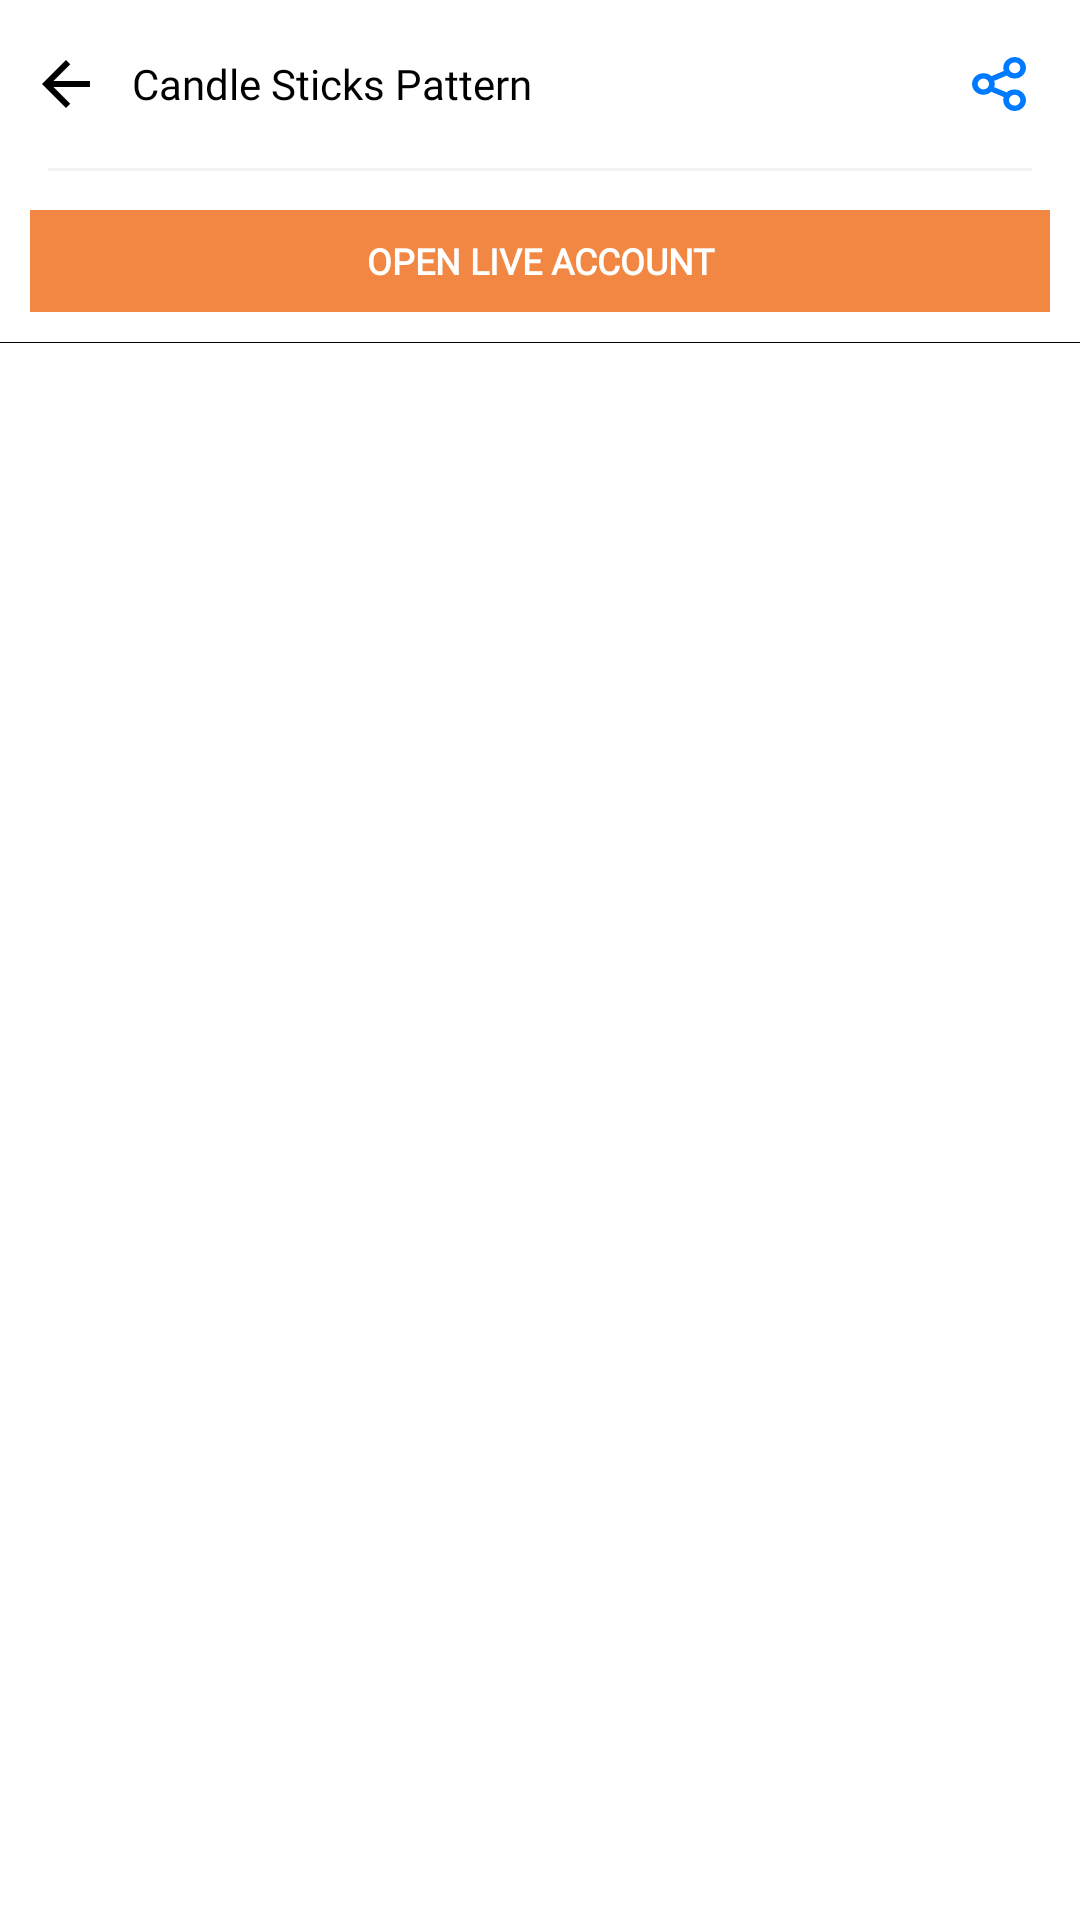

Icons on this 1080 × 1920 Android screen, each with the point to tap as [x,y]:
arrow back: [66,84]
shares: [999,84]
